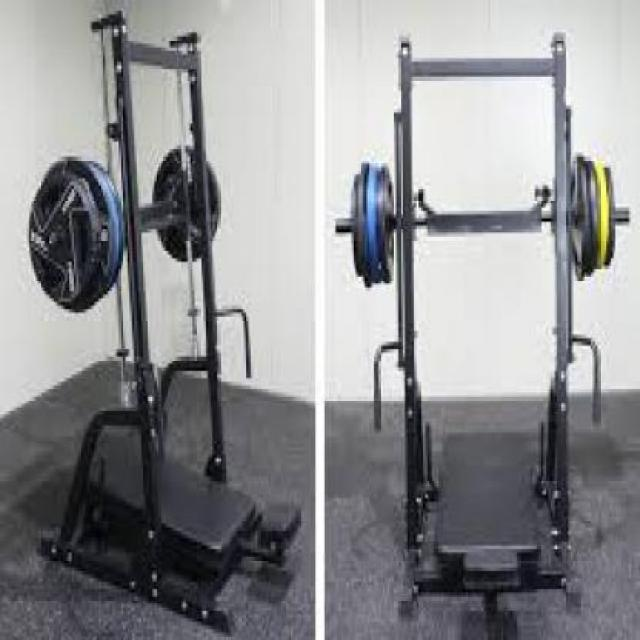smith machine: (333, 33, 630, 640), (27, 8, 304, 640)
